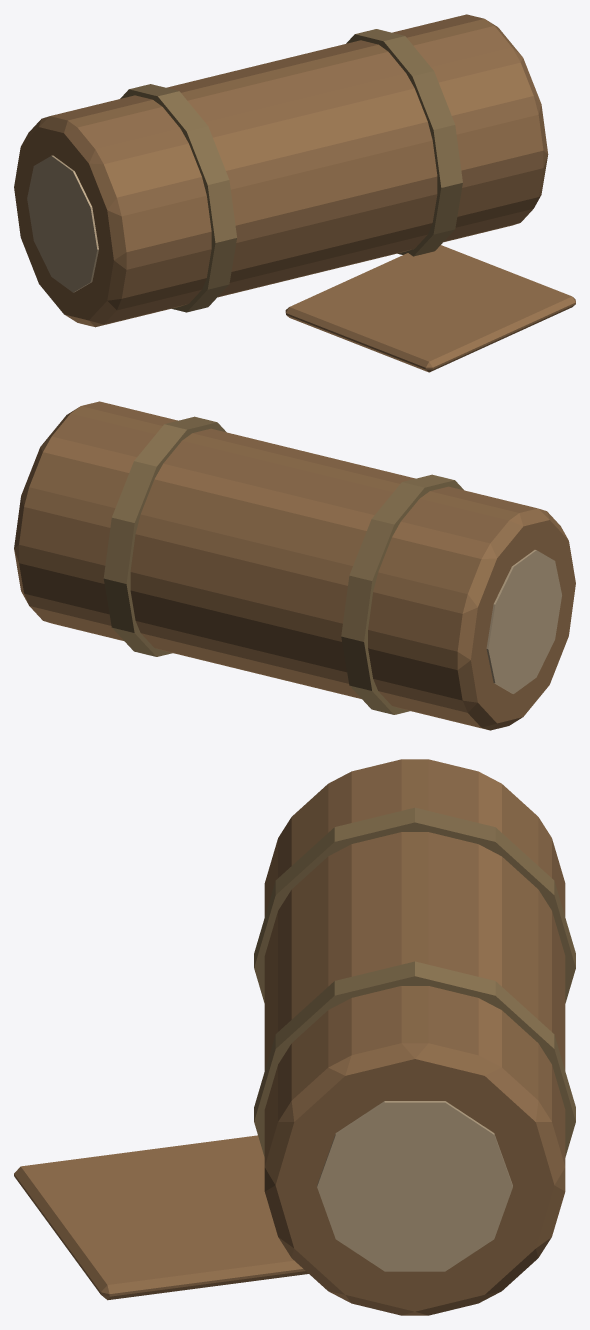
The model's file is ing_hide.glb.
3 views of the same model, one above another, from view 1: azimuth 30°, elevation 25°; view 2: azimuth 150°, elevation 25°; view 3: azimuth 270°, elevation 25° (orthographic). The views are drawn at different scales.
Visible parts, largest first — view 1: ing_hide; view 2: ing_hide; view 3: ing_hide.
Boxes of the visible parts, left/top/right/bottom form: ing_hide: left=14, top=14, right=575, bottom=372; ing_hide: left=14, top=401, right=575, bottom=730; ing_hide: left=14, top=759, right=575, bottom=1315.
Bounding box in the file's own units: 0.505 × 0.23 × 0.4016.
